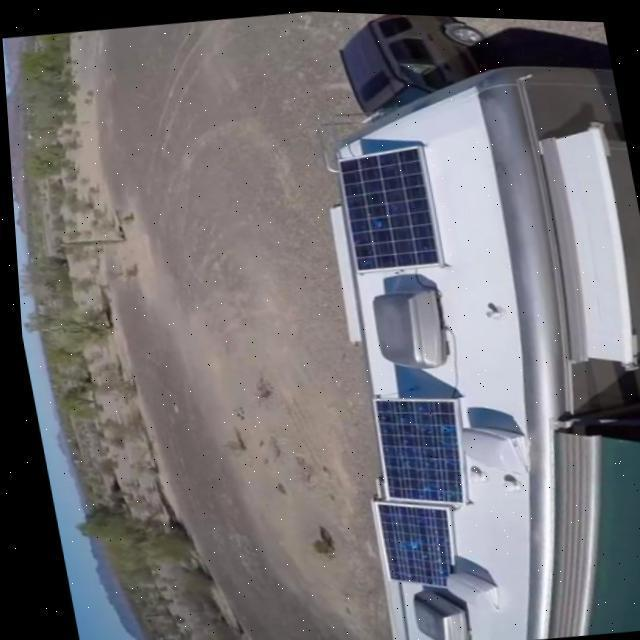Normal Solar Panel: (329, 139, 442, 272), (363, 386, 467, 509), (364, 489, 456, 592)
